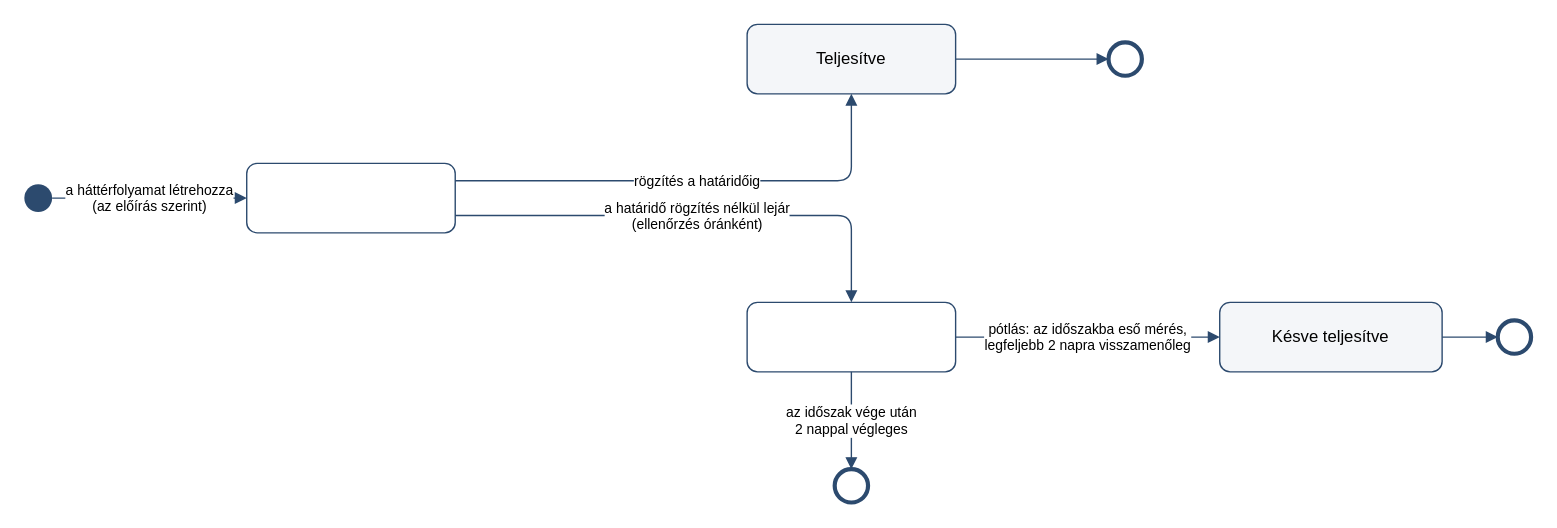
The diagram is 1557 pixels wide and 528 high, and some of its shapes have lost their labels. The box of each missing label's shape, as (x1, y1, x2, y2) in pixels:
Elmulasztva: (746, 301, 956, 372)
Esedékes: (245, 162, 455, 233)
